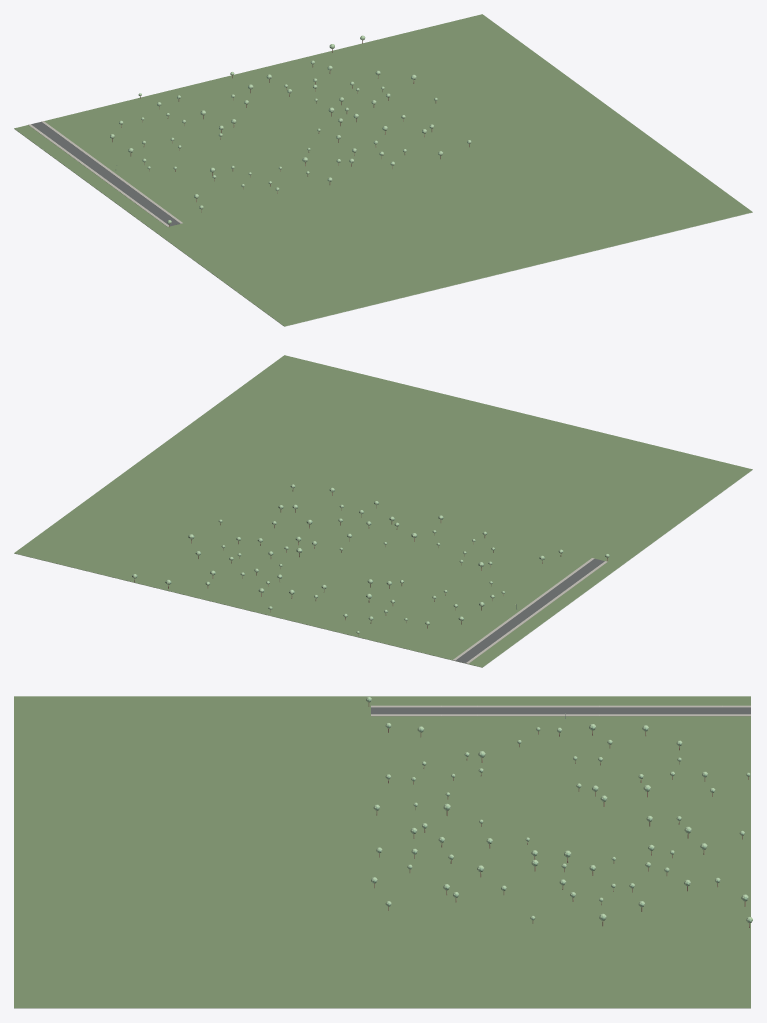
File: chunk_2_7_high.glb
The picture shows the model from 3 angles, top to bottom: view 1: azimuth 30°, elevation 25°; view 2: azimuth 150°, elevation 25°; view 3: azimuth 270°, elevation 25°; orthographic projection. The views are drawn at different scales.
Visible parts, largest first — view 1: city_forest_floor, city_world_asphalt, city_foliage, city_world_sidewalk, city_grass; view 2: city_forest_floor, city_world_asphalt, city_foliage, city_world_sidewalk, city_grass; view 3: city_forest_floor, city_world_asphalt, city_world_sidewalk, city_foliage, city_foliage_dark, city_curb, city_grass.
Part boxes in pixels (<box>): city_forest_floor: <box>14,14,752,326</box>; city_world_asphalt: <box>31,122,180,226</box>; city_foliage: <box>110,35,471,223</box>; city_world_sidewalk: <box>28,121,182,226</box>; city_grass: <box>14,129,752,326</box>; city_forest_floor: <box>14,355,752,667</box>; city_world_asphalt: <box>455,558,604,663</box>; city_foliage: <box>132,484,608,633</box>; city_world_sidewalk: <box>453,558,607,663</box>; city_grass: <box>14,470,752,667</box>; city_forest_floor: <box>14,696,750,1007</box>; city_world_asphalt: <box>371,707,750,714</box>; city_world_sidewalk: <box>371,705,750,716</box>; city_foliage: <box>366,697,752,922</box>; city_foliage_dark: <box>367,699,751,922</box>; city_curb: <box>371,706,750,715</box>; city_grass: <box>14,1008,750,1008</box>.
Size of the model in its own units: 512 by 9.77 by 513.
